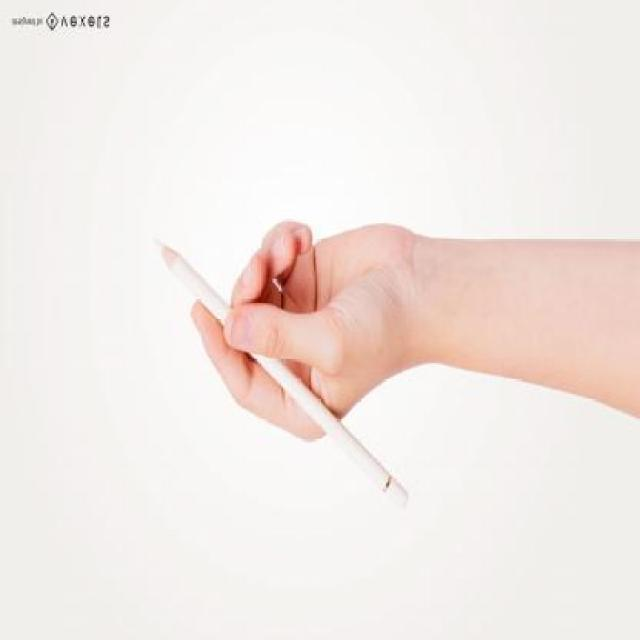pencil: (148, 232, 186, 286)
